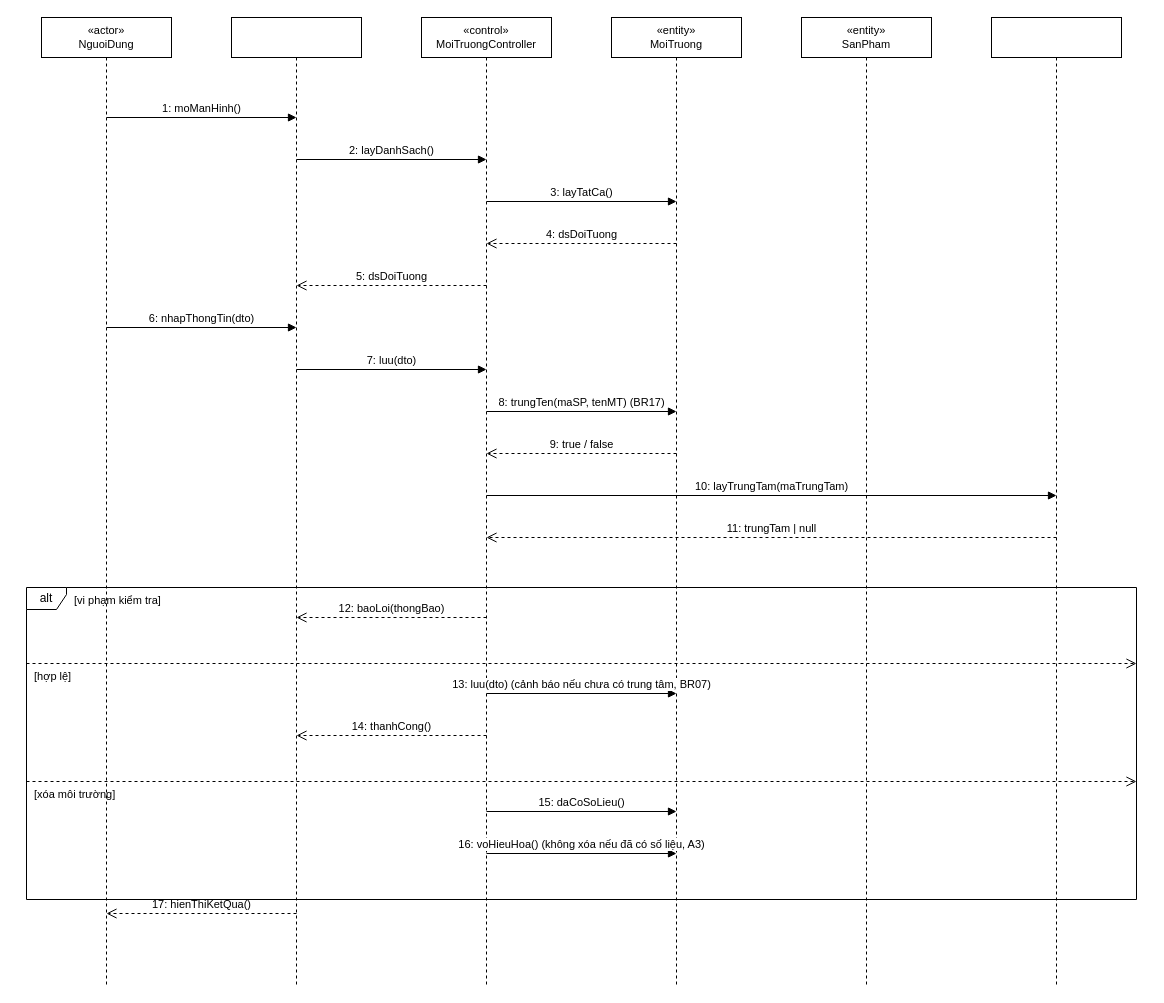
This 1164x1003 diagram has some shape labels left out. The shapes that lost their labels are listed below. From the top down, each one's box as (x1, y1, x2, y2) in pixels, then its label:
(230, 16, 362, 986): «boundary» FrmMoiTruong
(990, 16, 1122, 986): «entity» TrungTamDuLieu
